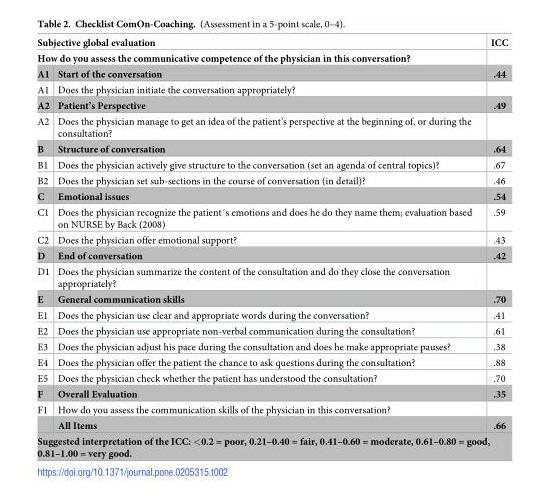table: (36, 37, 507, 458)
table column: (52, 37, 480, 458), (480, 37, 507, 458), (36, 37, 52, 458)
table column header: (36, 37, 507, 81)
table projected row header: (36, 433, 507, 458)
table row: (36, 113, 507, 141), (36, 204, 507, 232), (36, 263, 507, 291), (36, 433, 507, 458), (36, 65, 507, 81), (36, 81, 507, 97), (36, 97, 507, 113), (36, 156, 507, 172), (36, 172, 507, 188), (36, 188, 507, 204), (36, 247, 507, 263), (36, 291, 507, 307), (36, 322, 507, 338), (36, 338, 507, 354), (36, 354, 507, 370), (36, 370, 507, 386), (36, 401, 507, 417), (36, 417, 507, 433), (36, 50, 507, 65), (36, 141, 507, 156), (36, 232, 507, 247), (36, 307, 507, 322), (36, 386, 507, 401), (36, 37, 507, 50)
table spanning cell: (36, 37, 480, 65), (480, 37, 507, 81), (36, 401, 52, 433)
